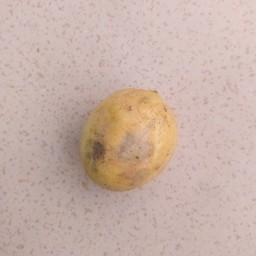Bad_lime: (78, 85, 174, 188)
